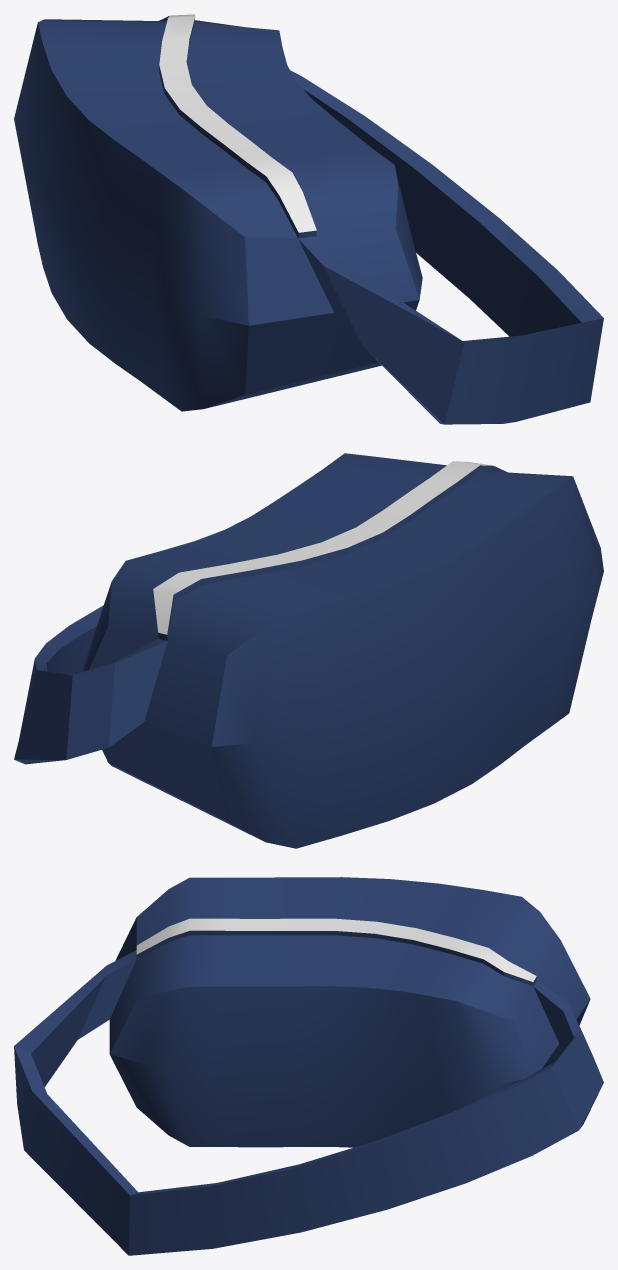
File: Loot_Bag1.fbx
The picture shows the model from 3 angles, top to bottom: view 1: azimuth 30°, elevation 25°; view 2: azimuth 150°, elevation 25°; view 3: azimuth 270°, elevation 25°; orthographic projection. The views are drawn at different scales.
Visible parts, largest first — view 1: Cube.022; view 2: Cube.022; view 3: Cube.022.
Part boxes in pixels (x1=…): Cube.022: x1=14, y1=14, x2=603, y2=424; Cube.022: x1=14, y1=453, x2=603, y2=848; Cube.022: x1=14, y1=877, x2=603, y2=1255.
Size of the model in its own units: 381 by 256 by 582.
